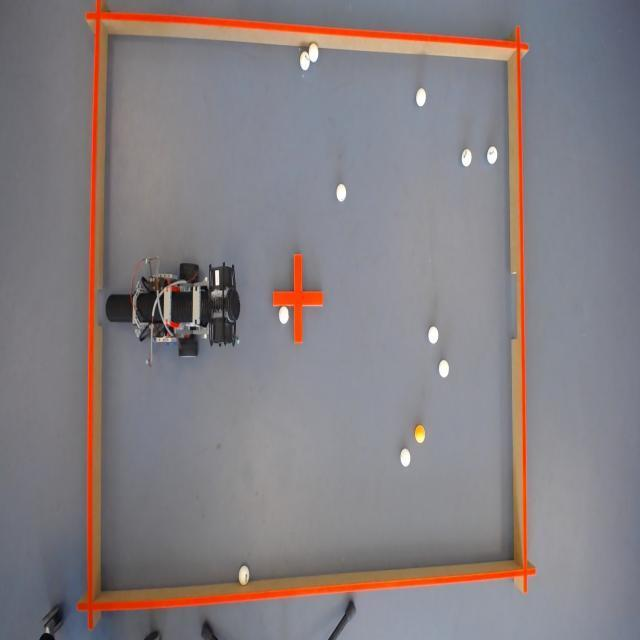orange: (414, 424, 424, 446)
robot: (113, 260, 243, 359)
white: (238, 565, 250, 590), (437, 358, 450, 378), (484, 146, 498, 164), (414, 86, 426, 106), (336, 182, 348, 202), (400, 446, 412, 466), (428, 324, 439, 344), (308, 42, 318, 62), (462, 149, 472, 169), (299, 51, 310, 69), (278, 305, 288, 323)
